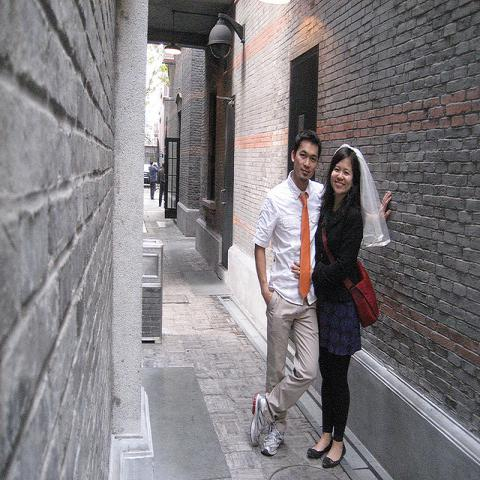car: (144, 164, 150, 184)
